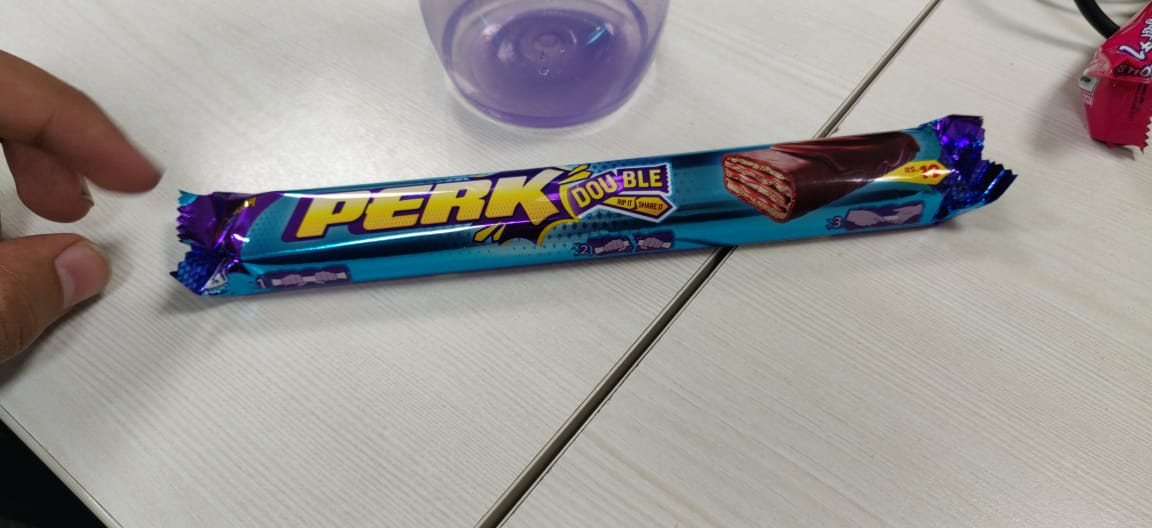perk: (174, 103, 1035, 312)
